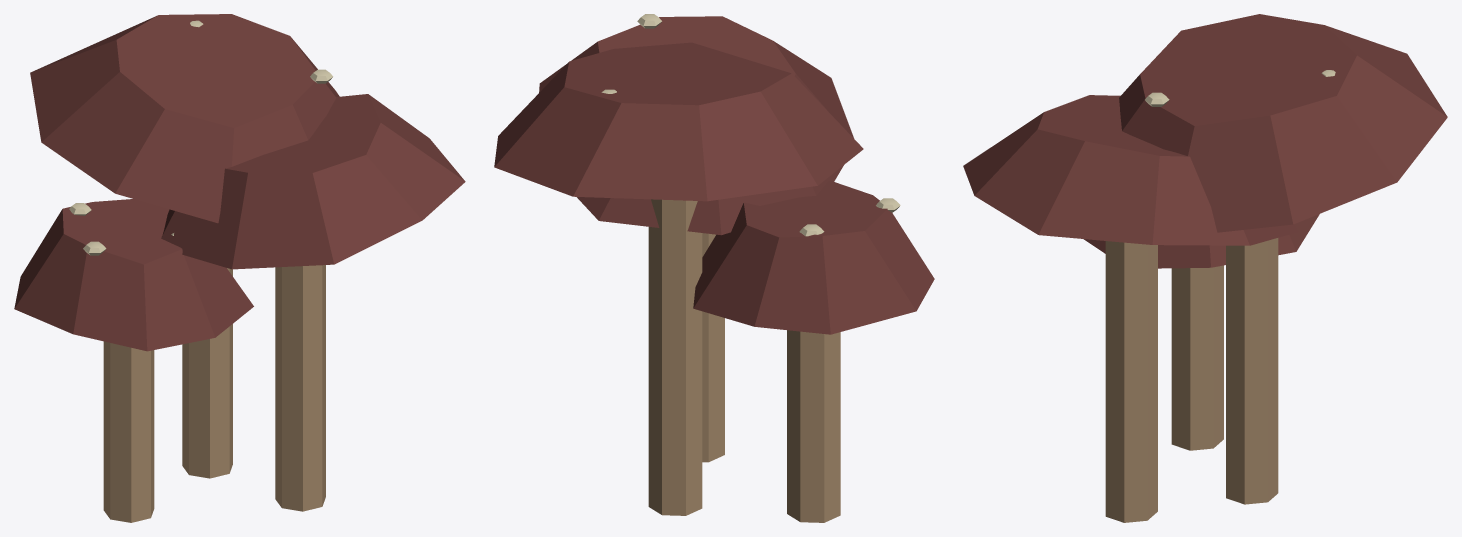
The model's file is SW_ENV_Mushrooms.fbx.
3 renders of one model, left to right at view 1: azimuth 30°, elevation 25°; view 2: azimuth 150°, elevation 25°; view 3: azimuth 270°, elevation 25°, orthographic. The views are drawn at different scales.
Visible parts, largest first — view 1: SW_ENV_Mushrooms; view 2: SW_ENV_Mushrooms; view 3: SW_ENV_Mushrooms.
Part boxes in pixels (x1,y1,x2,y2): SW_ENV_Mushrooms: (14,14,465,522); SW_ENV_Mushrooms: (494,14,934,522); SW_ENV_Mushrooms: (963,14,1447,522).
Size of the model in its own units: 1.88 by 1.94 by 1.94.
